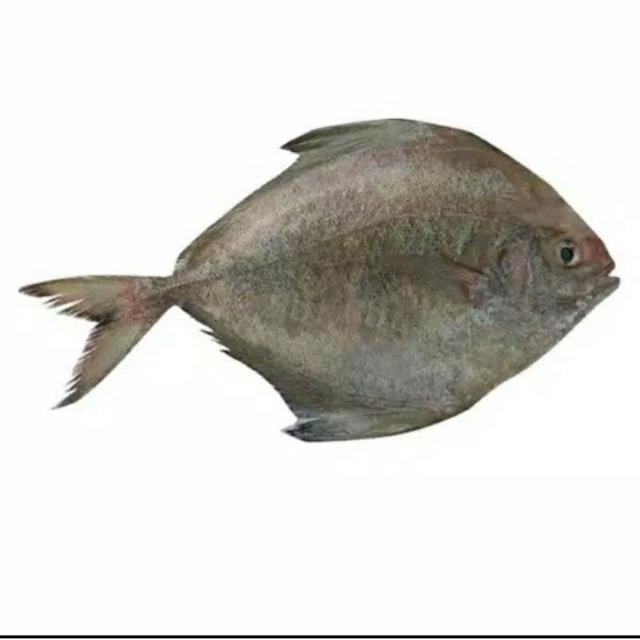Mulut: (566, 242, 634, 308)
Sirip Anal: (204, 316, 302, 384)
Sirip Dada: (348, 232, 512, 326)
Sirip Ekor: (3, 258, 203, 426)
Sirip Perut: (262, 390, 454, 454)
Sirip Punggung: (160, 113, 444, 250)
